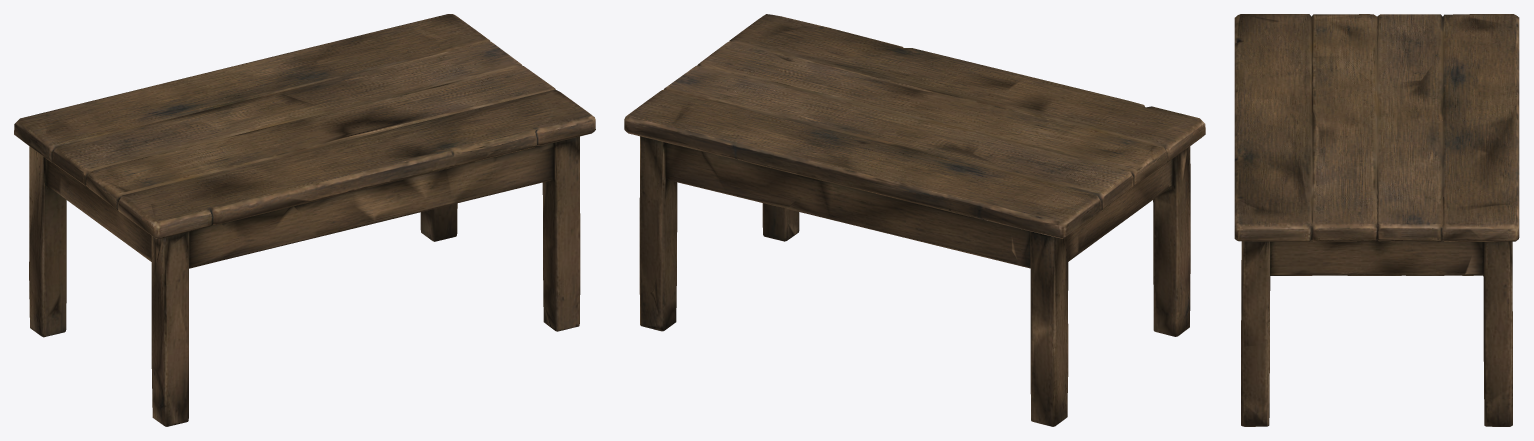
Rendered from Mesa.glb.
3 views of the same model, side by side, from view 1: azimuth 30°, elevation 25°; view 2: azimuth 150°, elevation 25°; view 3: azimuth 270°, elevation 25° (orthographic).
Visible parts, largest first — view 1: node_0; view 2: node_0; view 3: node_0.
Boxes of the visible parts, left/top/right/bottom form: node_0: left=14, top=14, right=595, bottom=426; node_0: left=624, top=14, right=1205, bottom=426; node_0: left=1234, top=14, right=1519, bottom=426.
Size of the model in its own units: 0.9823 by 0.4463 by 0.554.
1 material, 1 textured.
